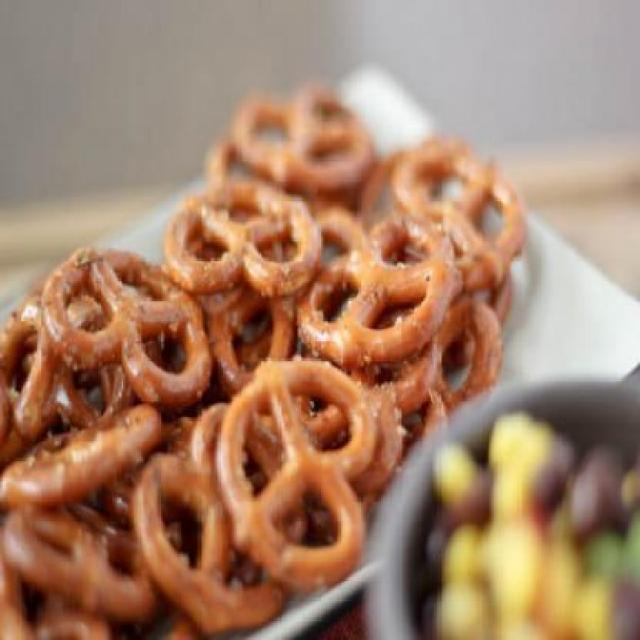Salatini packaged: (1, 105, 508, 638)
